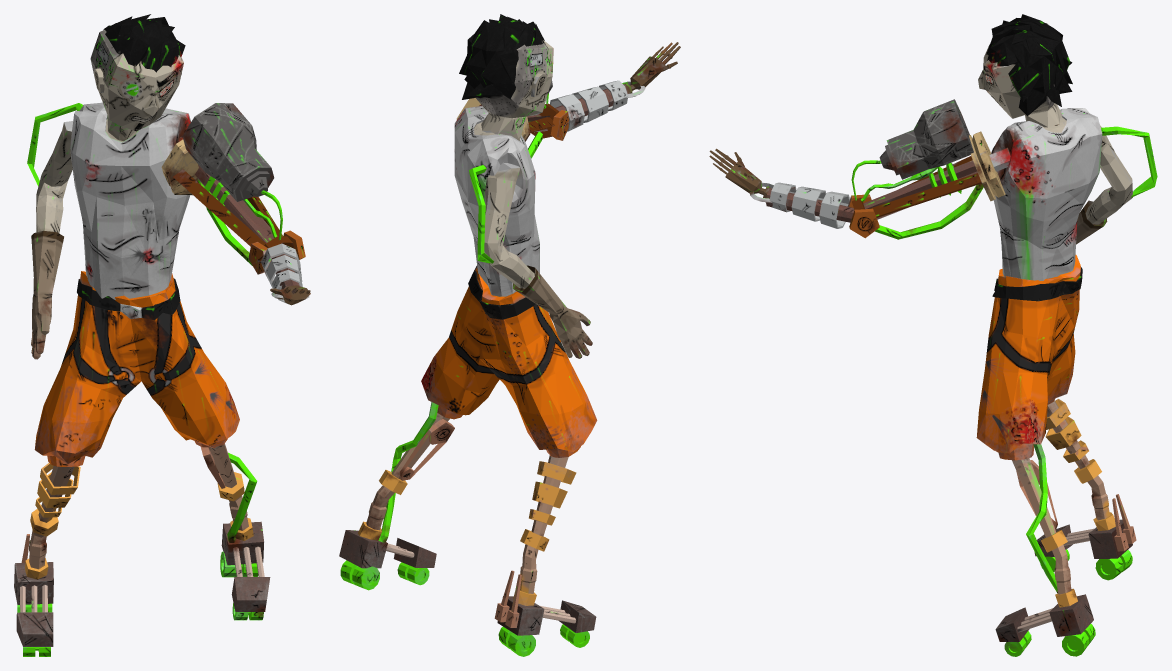
Rendered from CyborgFINALAnimation_000030.obj.
The picture shows the model from 3 angles, left to right: view 1: azimuth 30°, elevation 25°; view 2: azimuth 150°, elevation 25°; view 3: azimuth 270°, elevation 25°; orthographic projection. The views are drawn at different scales.
Parts seen in each view (by area): view 1: CyborgMesh_Cube.002; view 2: CyborgMesh_Cube.002; view 3: CyborgMesh_Cube.002.
Part boxes in pixels (left/top/right/bottom): CyborgMesh_Cube.002: left=14, top=14, right=310, bottom=656; CyborgMesh_Cube.002: left=339, top=14, right=680, bottom=656; CyborgMesh_Cube.002: left=709, top=14, right=1157, bottom=656.
Bounding box in the file's own units: 4.04 × 9.54 × 6.6.
